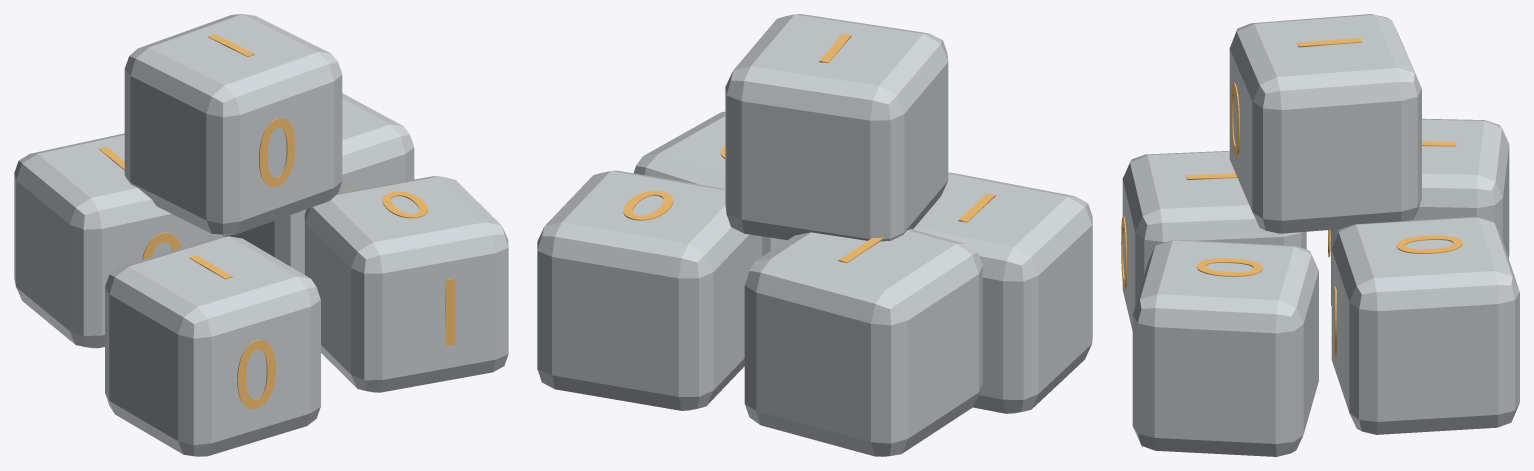
The model's file is binary_sugar_item.glb.
The picture shows the model from 3 angles, left to right: view 1: azimuth 30°, elevation 25°; view 2: azimuth 150°, elevation 25°; view 3: azimuth 270°, elevation 25°; orthographic projection. The views are drawn at different scales.
Parts seen in each view (by area): view 1: Binary sugar cube, Label 0; view 2: Binary sugar cube, Label 0; view 3: Binary sugar cube, Label 0.
Boxes of the visible parts, x1,y1,x2,y2 form: Binary sugar cube: [14, 14, 508, 456]; Label 0: [99, 34, 455, 408]; Binary sugar cube: [537, 14, 1092, 456]; Label 0: [623, 33, 995, 263]; Binary sugar cube: [1122, 14, 1519, 456]; Label 0: [1121, 38, 1462, 358].
Size of the model in its own units: 0.7722 by 0.657 by 0.7179.
